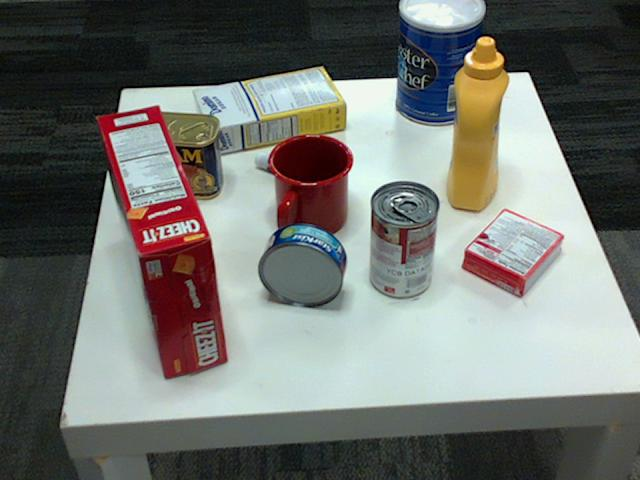cracker_box: (95, 104, 228, 375)
gelatin_box: (462, 209, 564, 296)
large_marker: (253, 154, 345, 195)
master_chef_can: (394, 0, 483, 125)
mug: (268, 131, 355, 235)
mustard_bottle: (445, 38, 508, 210)
potted_meat_can: (125, 112, 223, 198)
sugar_box: (193, 66, 347, 152)
tomato_soup_can: (369, 181, 439, 297)
tuna_fish_can: (259, 223, 347, 305)
